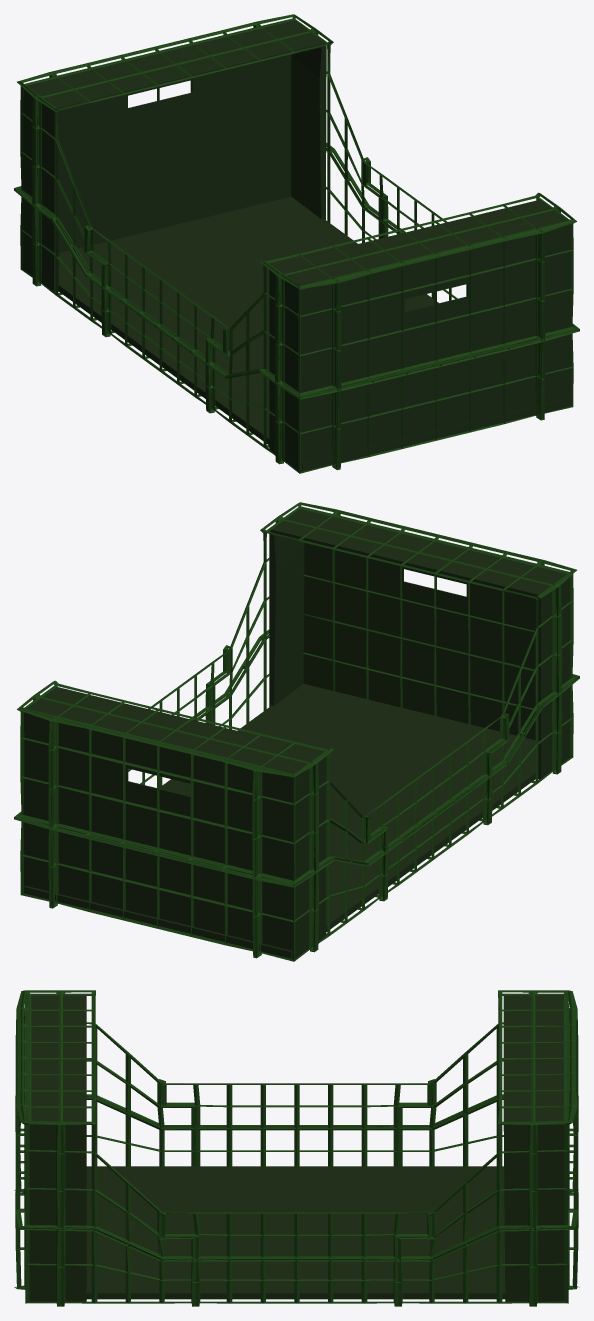
3 views of the same model, one above another, from view 1: azimuth 30°, elevation 25°; view 2: azimuth 150°, elevation 25°; view 3: azimuth 270°, elevation 25° (orthographic). The views are drawn at different scales.
Visible parts, largest first — view 1: Cube.001, Cube.002, Cube, Cube.003; view 2: Cube.002, Cube.001, Cube, Cube.003; view 3: Cube, Cube.003, Cube.002, Cube.001.
Part boxes in pixels (x1,y1,x2,y2): Cube.001: (269, 200, 571, 471); Cube.002: (23, 20, 326, 291); Cube: (14, 14, 579, 473); Cube.003: (58, 196, 569, 469); Cube.002: (23, 687, 326, 958); Cube.001: (269, 509, 570, 779); Cube: (14, 502, 579, 961); Cube.003: (24, 683, 538, 957); Cube: (14, 990, 579, 1306); Cube.003: (86, 1166, 505, 1299); Cube.002: (503, 995, 564, 1301); Cube.001: (26, 994, 86, 1301).
Bounding box in the file's own units: 210 × 135 × 371.
